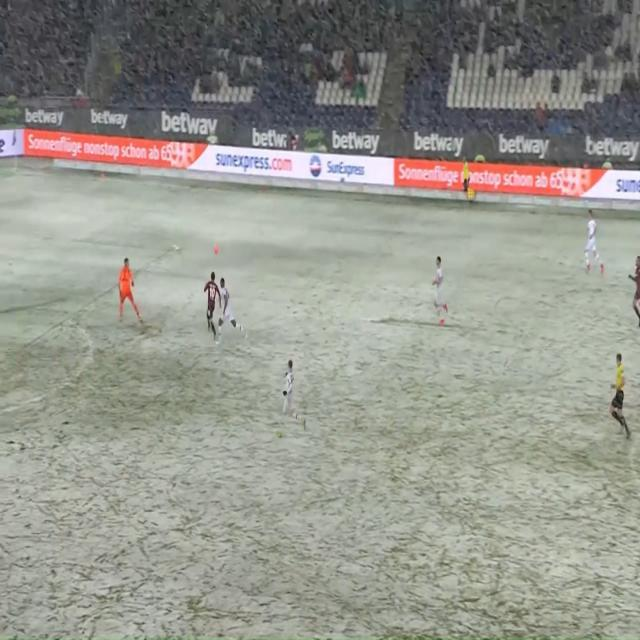ball: (211, 241, 223, 257)
goalkeeper: (113, 250, 143, 323)
player: (275, 354, 307, 441), (580, 205, 607, 279), (219, 270, 246, 342), (428, 245, 450, 329), (625, 248, 640, 330), (202, 267, 218, 342)
referee: (604, 346, 631, 444), (459, 153, 475, 205)
